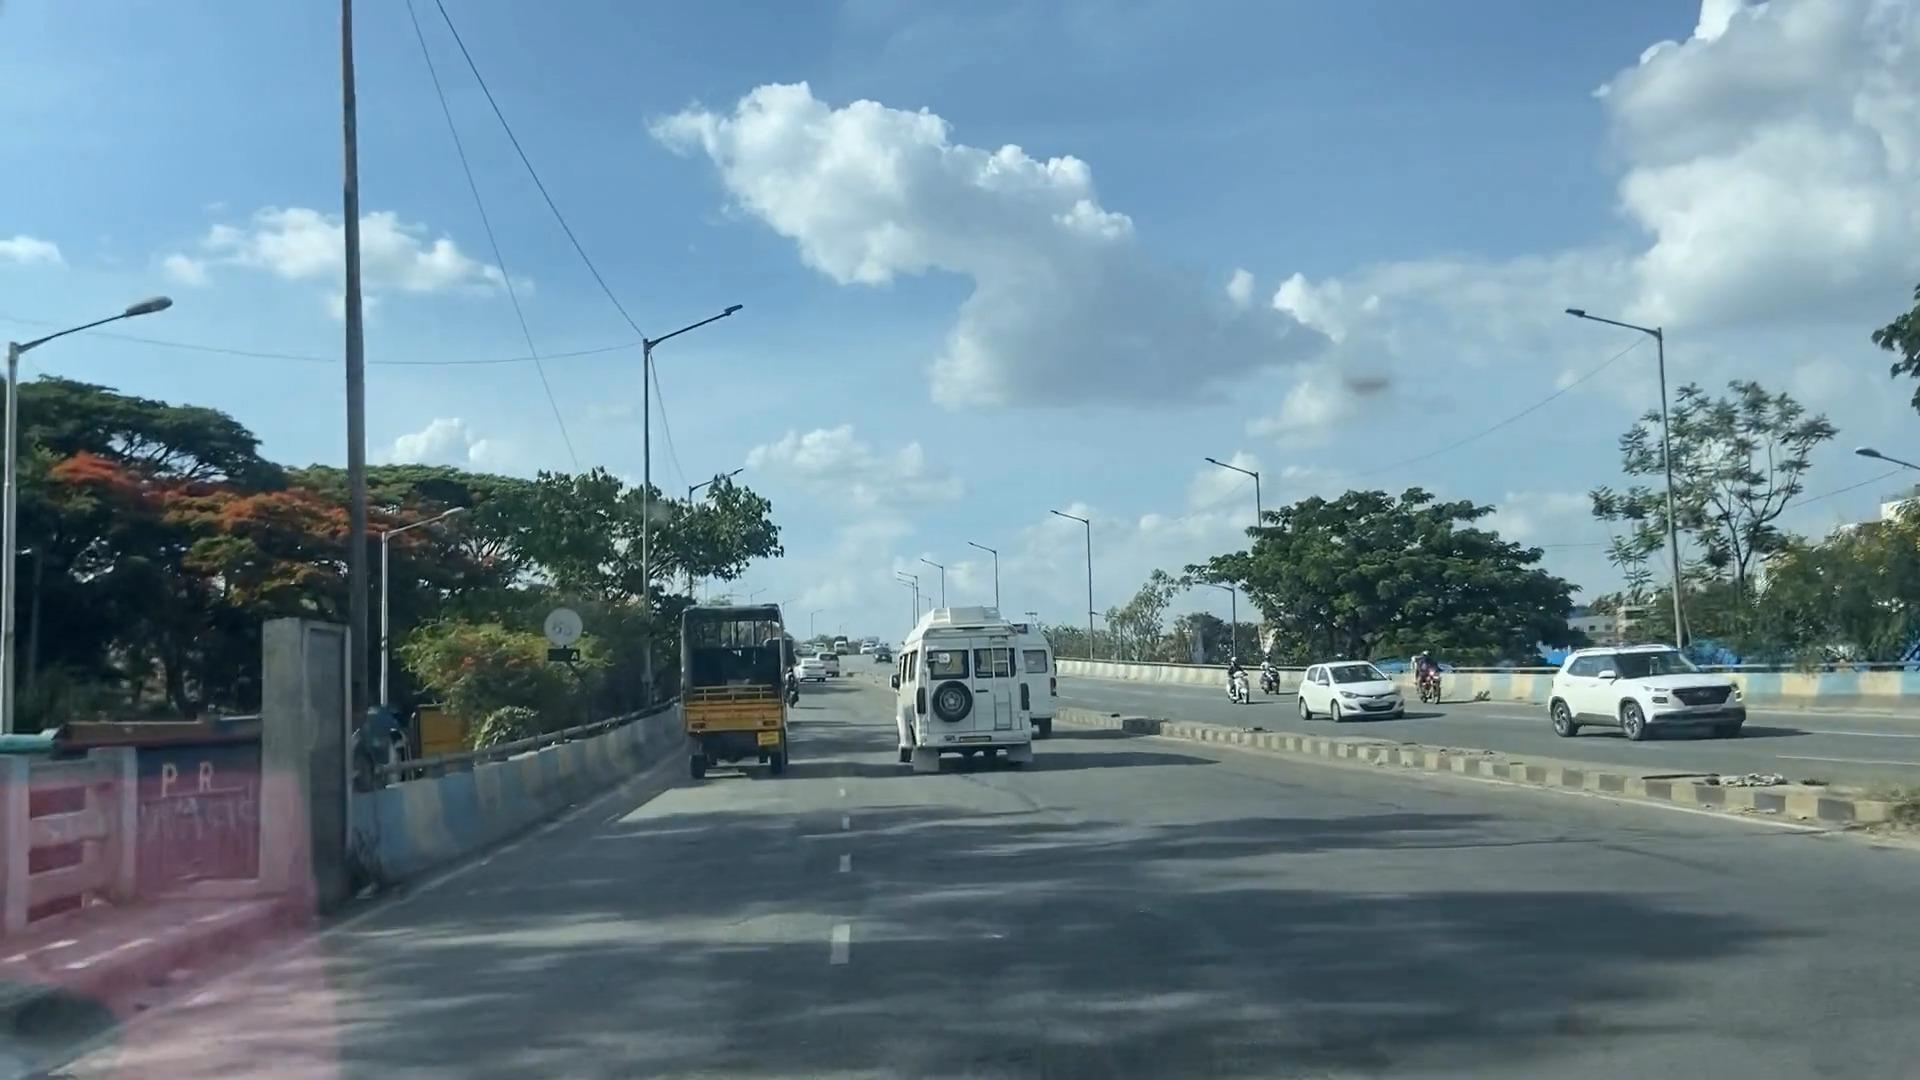HMV: (909, 603, 1036, 752), (669, 603, 781, 764)
